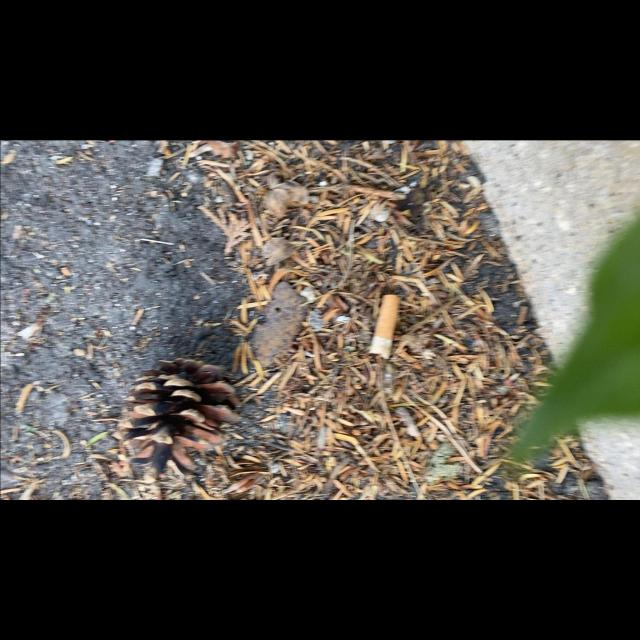cigarette: (368, 292, 401, 360)
